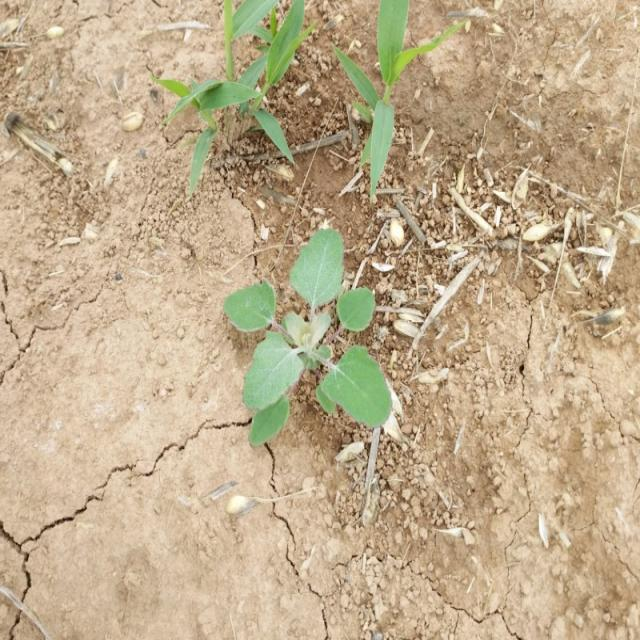ca: (225, 231, 392, 436)
